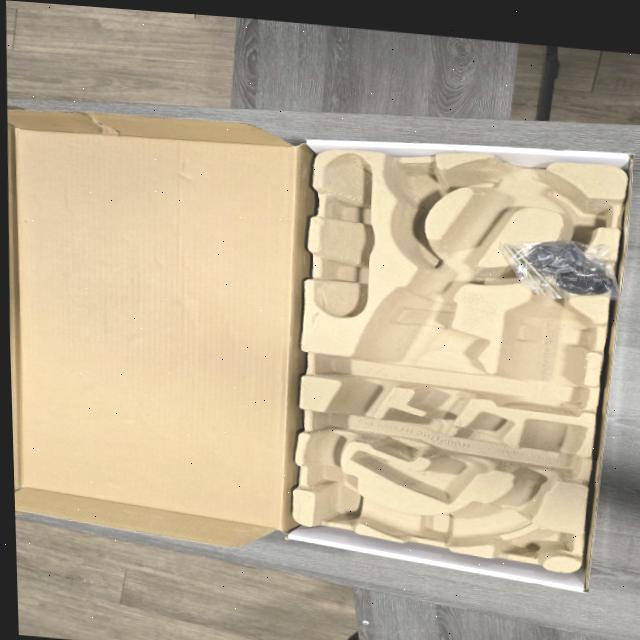1m: (310, 153, 587, 546)
2m: (351, 411, 517, 503)
3m: (499, 284, 592, 415)
4m: (315, 152, 376, 317)
5m: (384, 162, 448, 198)
6m: (544, 179, 617, 227)
7: (496, 239, 620, 299)
